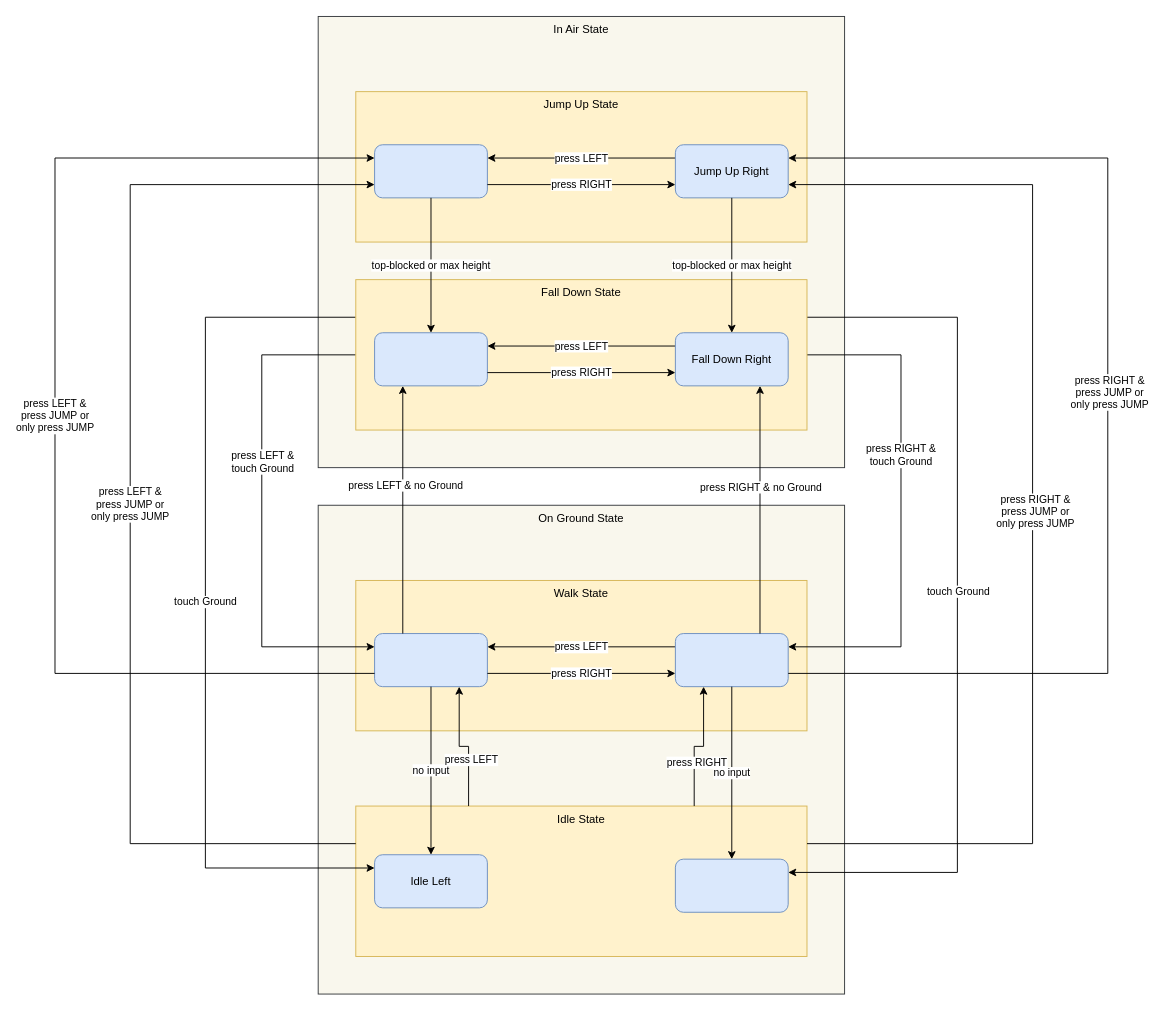
The diagram is 1165 pixels wide and 1011 high, and some of its shapes have lost their labels. The shapes that lost their labels are listed below. From the top down, each one's centre as x and y in pixels, then its label:
At point (430, 171): "Jump Up Left".
At point (430, 359): "Fall Down Left".
At point (430, 660): "Walk Left".
At point (731, 660): "Walk Right".
At point (731, 885): "Idle Right".
